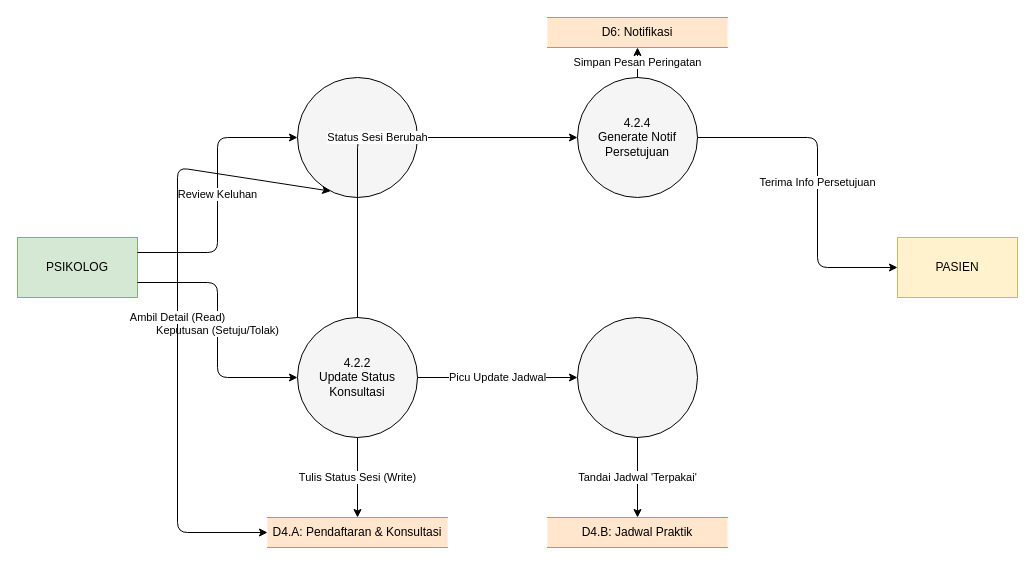
Some shapes in this 1035 by 565 pixel diagram are drawn without their labels. The shapes that lost their labels are listed below. From the top down, each one's centre as x and y in pixels, then its label:
At [357,137]: "4.2.1 Evaluasi Data Pendaftaran".
At [637,377]: "4.2.3 Kunci Slot Jadwal (Jika Disetujui)".
